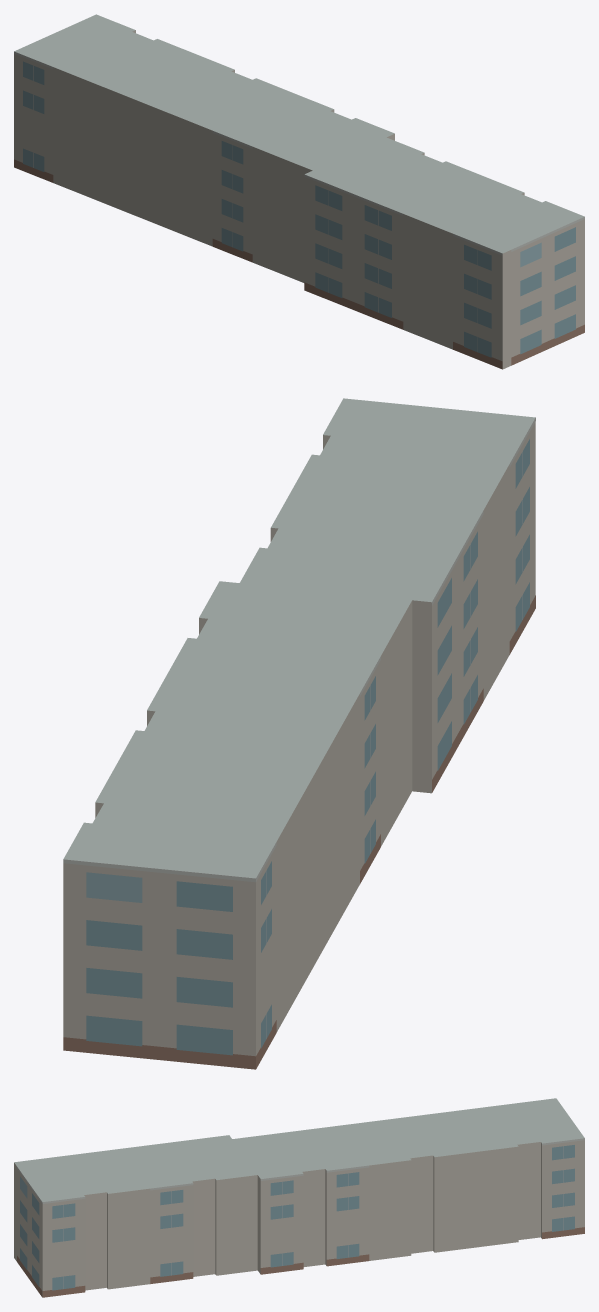
Rendered from survey-upis-32730721.glb.
The picture shows the model from 3 angles, top to bottom: view 1: azimuth 30°, elevation 25°; view 2: azimuth 150°, elevation 25°; view 3: azimuth 270°, elevation 25°; orthographic projection. The views are drawn at different scales.
Parts seen in each view (by area): view 1: survey-upis-32730721.tmp; view 2: survey-upis-32730721.tmp; view 3: survey-upis-32730721.tmp.
Part boxes in pixels (box(x1,y1,x2,y2)): survey-upis-32730721.tmp: box(14, 14, 584, 369); survey-upis-32730721.tmp: box(63, 398, 535, 1069); survey-upis-32730721.tmp: box(14, 1098, 584, 1297).
Size of the model in its own units: 28.5 by 12.2 by 66.08.
